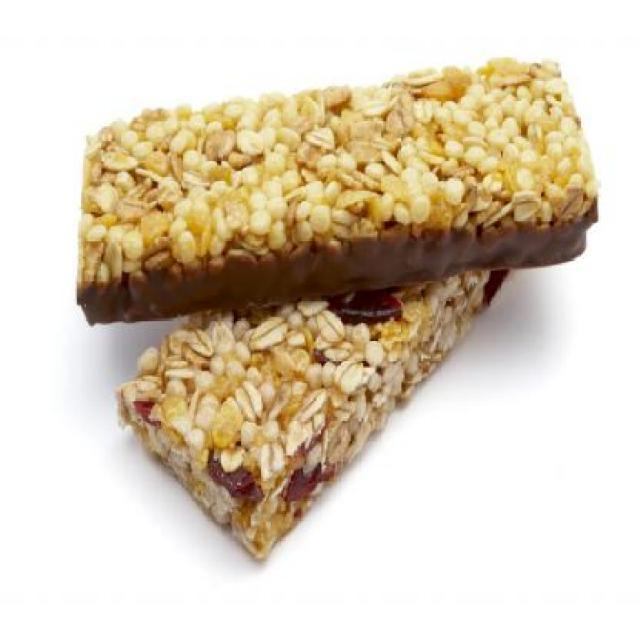Cereal bar packaged: (78, 56, 600, 322)
